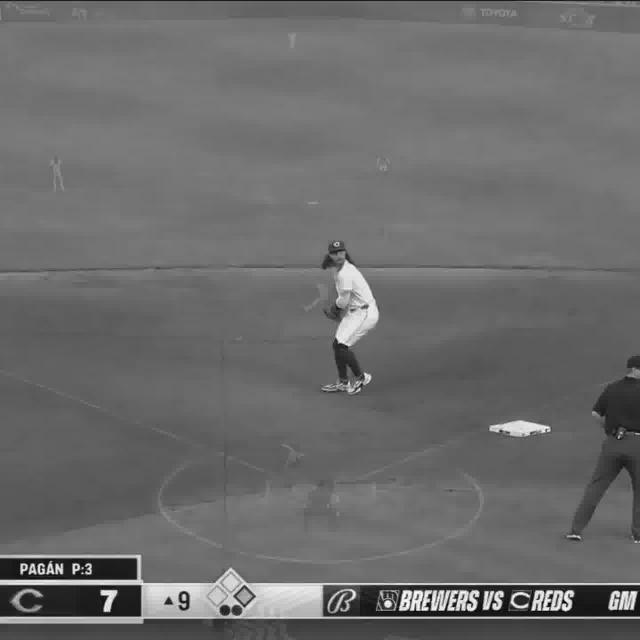base: (483, 418, 552, 437)
shoe: (351, 372, 374, 399), (320, 384, 343, 397)
